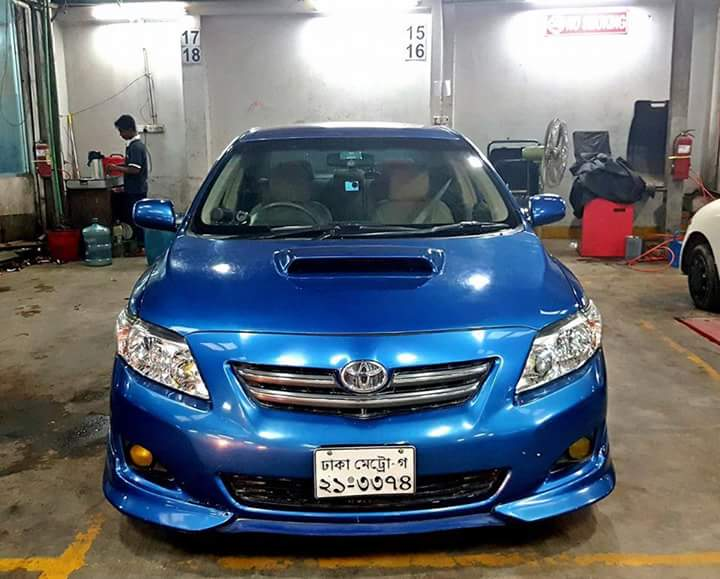registration_plate: (313, 445, 416, 500)
